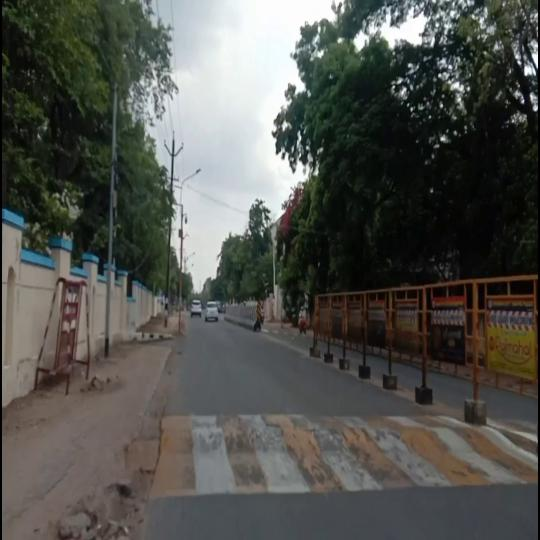Speed Bump: (148, 412, 539, 500)
